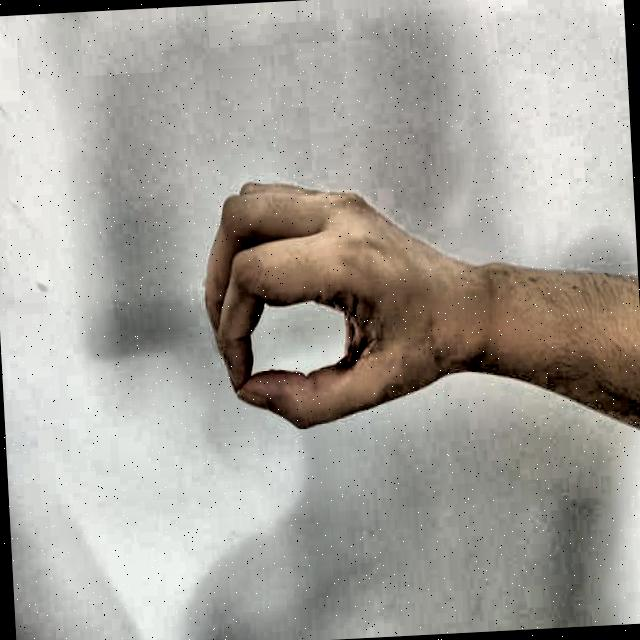O: (172, 136, 493, 475)
